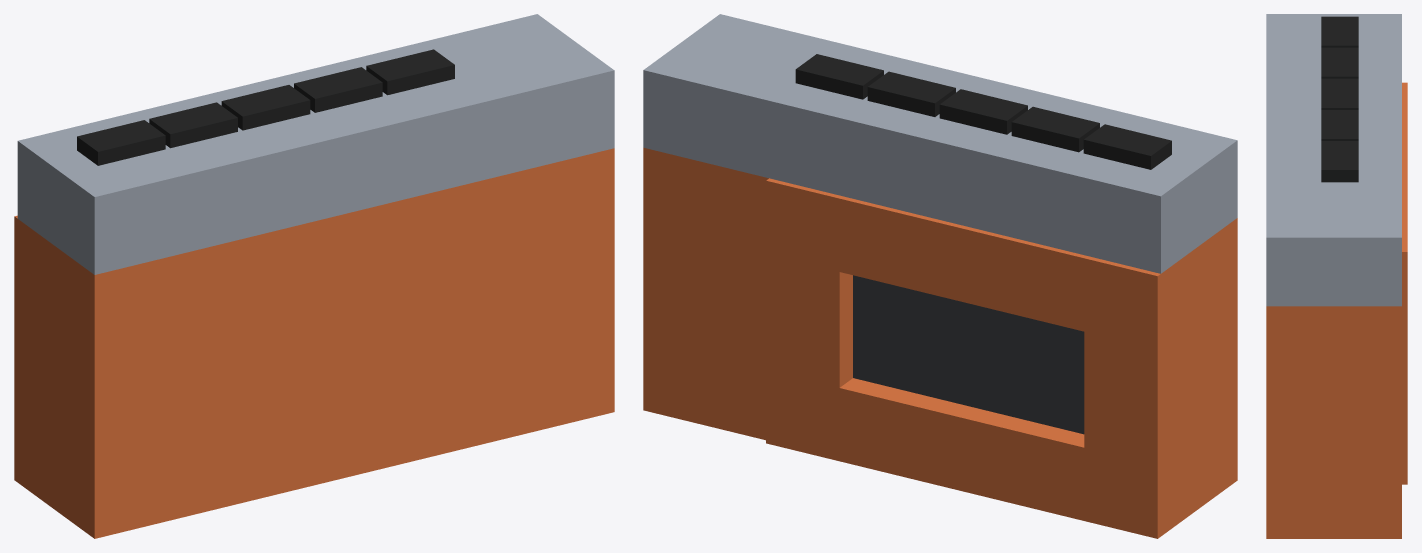
The model's file is Casette_player.fbx.
The picture shows the model from 3 angles, left to right: view 1: azimuth 30°, elevation 25°; view 2: azimuth 150°, elevation 25°; view 3: azimuth 270°, elevation 25°; orthographic projection. The views are drawn at different scales.
Parts seen in each view (by area): view 1: Plane.194; view 2: Plane.194; view 3: Plane.194.
Part boxes in pixels (box(x1,y1,x2,y2)): Plane.194: box(14, 14, 614, 538); Plane.194: box(643, 14, 1237, 538); Plane.194: box(1266, 14, 1407, 538).
Size of the model in its own units: 0.5114 by 0.1366 by 0.3344.
